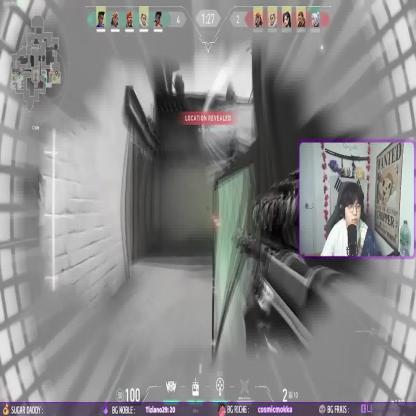enemy: (224, 80, 238, 171)
enemy_head: (227, 83, 233, 100)
